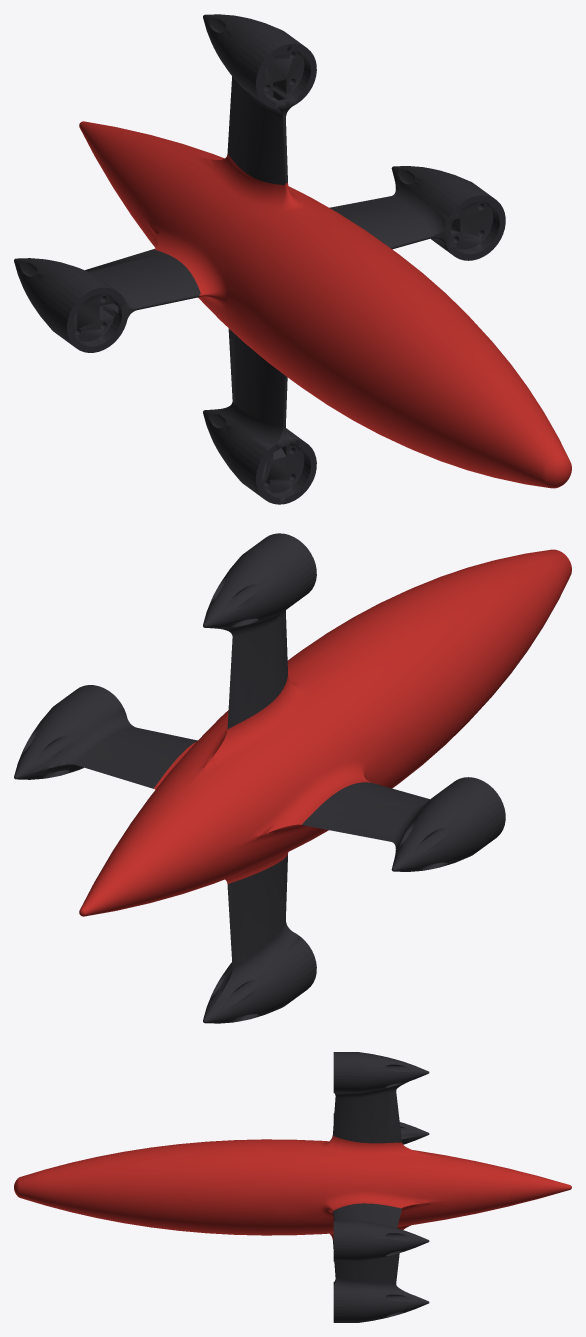
The model's file is quadcopter.glb.
3 renders of one model, top to bottom at view 1: azimuth 30°, elevation 25°; view 2: azimuth 150°, elevation 25°; view 3: azimuth 270°, elevation 25°, orthographic. The views are drawn at different scales.
Size of the model in its own units: 0.2323 by 0.2323 by 0.44.
